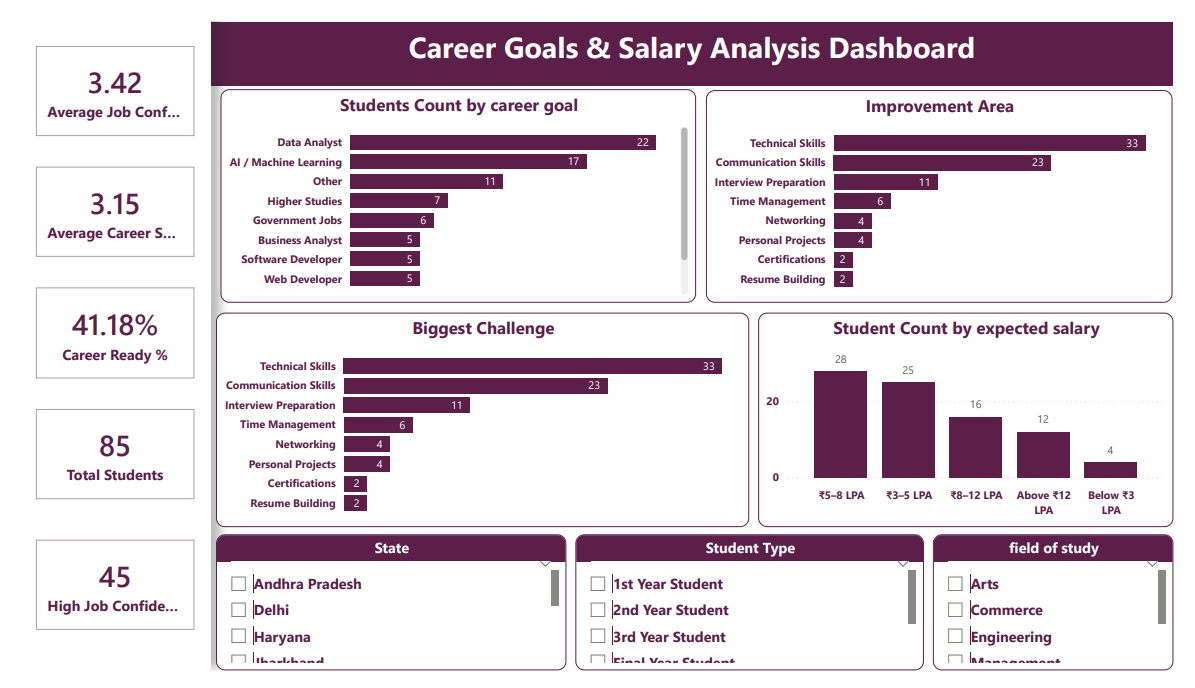

What the dashboard file says about the page in this screenshot:
{"tool":"powerbi","page":{"name":"Career Goals & Salary","canvas":[1280,720],"ordinal":3},"visuals":[{"type":"shape","box":[0,0,1280.5,70.6],"z":0},{"type":"shape","box":[0,0,210.9,720.3],"z":1000},{"type":"textbox","box":[210.9,0,1068.8,70.3],"z":2000},{"type":"cardVisual","fields":{"Data":["Measure_Table.Average Job Confidence"]},"box":[0,10.2,209.9,134.1],"z":3000},{"type":"cardVisual","fields":{"Data":["Measure_Table.Average Career Satisfaction"]},"box":[0,144.3,209.9,134.1],"z":4000},{"type":"cardVisual","fields":{"Data":["Measure_Table.Career Ready %"]},"box":[0,278.5,209.9,134.1],"z":5000},{"type":"cardVisual","fields":{"Data":["Measure_Table.Total Students"]},"box":[0,412.6,209.9,134.1],"z":6000},{"type":"cardVisual","fields":{"Data":["Measure_Table.High Job Confidence"]},"box":[0,558.4,209.9,134.1],"z":7000},{"type":"clusteredBarChart","title":"Students Count by career goal","fields":{"Category":["Dim_Career.career_goal"],"Y":["Measure_Table.Student Count"]},"box":[221.6,74.8,528,237.2],"z":8000},{"type":"clusteredColumnChart","title":"Student Count by expected salary","fields":{"Category":["Dim_Career.expected_salary"],"Y":["Measure_Table.Student Count"]},"box":[818.8,323.4,460.9,237.5],"z":9000},{"type":"clusteredBarChart","title":"Improvement Area","fields":{"Y":["Measure_Table.Student Count"],"Category":["Dim_FeedBack.improvement_area"]},"box":[760.9,76.2,518.1,235.8],"z":10000},{"type":"clusteredBarChart","title":"Biggest Challenge","fields":{"Y":["Measure_Table.Student Count"],"Category":["Dim_FeedBack.improvement_area"]},"box":[217.2,323.4,592.2,237.5],"z":11000},{"type":"slicer","title":"State","fields":{"Values":["Dim_Education.state"]},"box":[217.2,568.8,389.1,151.6],"z":12000},{"type":"slicer","title":"Student Type","fields":{"Values":["Fact_StudentSurvey.student_type"]},"box":[615.6,568.8,387.5,151.6],"z":13000},{"type":"slicer","title":"field of study","fields":{"Values":["Dim_Education.field_of_study"]},"box":[1012.5,568.8,267.2,151.6],"z":14000}]}

Visuals, with their boxes in screenshot pixels (x1, y1, x2, y2), scaled from the page's 1280x720 canvas onto the 1195x688 screenshot:
shape: [0,0,1194,67]
shape: [0,0,197,687]
textbox: [197,0,1194,67]
cardVisual - Measure_Table.Average Job Confidence: [0,10,196,138]
cardVisual - Measure_Table.Average Career Satisfaction: [0,138,196,266]
cardVisual - Measure_Table.Career Ready %: [0,266,196,394]
cardVisual - Measure_Table.Total Students: [0,394,196,522]
cardVisual - Measure_Table.High Job Confidence: [0,534,196,662]
"Students Count by career goal" clusteredBarChart: [207,71,700,298]
"Student Count by expected salary" clusteredColumnChart: [764,309,1194,536]
"Improvement Area" clusteredBarChart: [710,73,1194,298]
"Biggest Challenge" clusteredBarChart: [203,309,756,536]
"State" slicer: [203,544,566,687]
"Student Type" slicer: [575,544,936,687]
"field of study" slicer: [945,544,1194,687]
